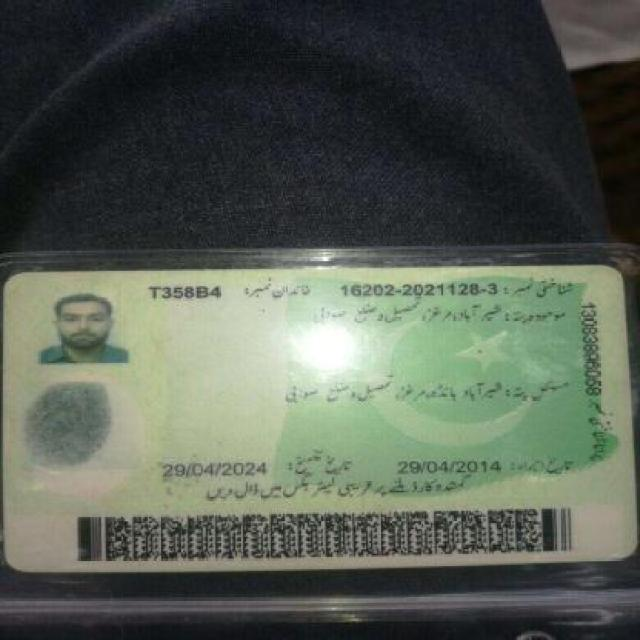Back: (6, 260, 632, 569)
